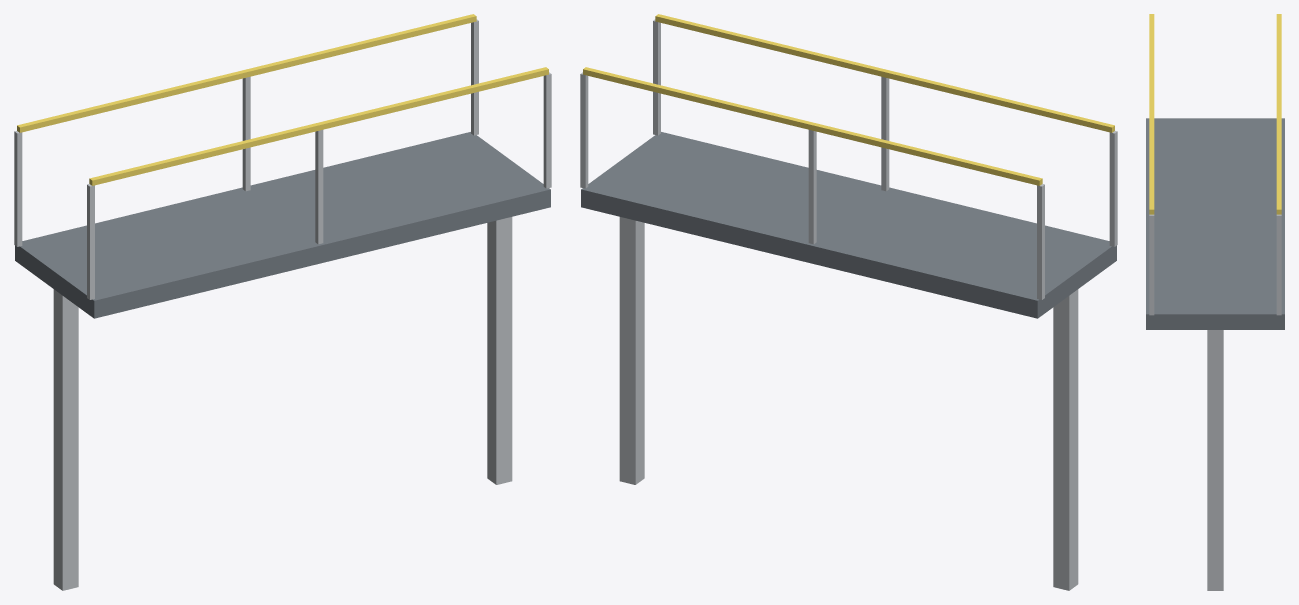
File: mech-hangar-and-battle-frames-gantry-straight-bd760f72__26926.glb
3 renders of one model, left to right at view 1: azimuth 30°, elevation 25°; view 2: azimuth 150°, elevation 25°; view 3: azimuth 270°, elevation 25°, orthographic. The views are drawn at different scales.
Parts seen in each view (by area): view 1: gantry-straight; view 2: gantry-straight; view 3: gantry-straight.
Part boxes in pixels (x1=…): gantry-straight: x1=14, y1=14, x2=551, y2=590; gantry-straight: x1=580, y1=14, x2=1117, y2=590; gantry-straight: x1=1146, y1=14, x2=1284, y2=590.
Size of the model in its own units: 4.05 by 3.65 by 1.2.
